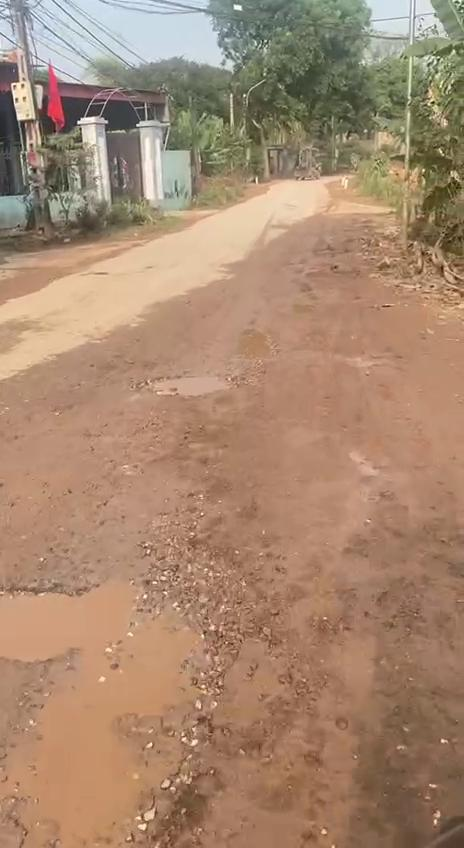pothole: (0, 558, 228, 848), (136, 368, 234, 399), (240, 324, 280, 365)
